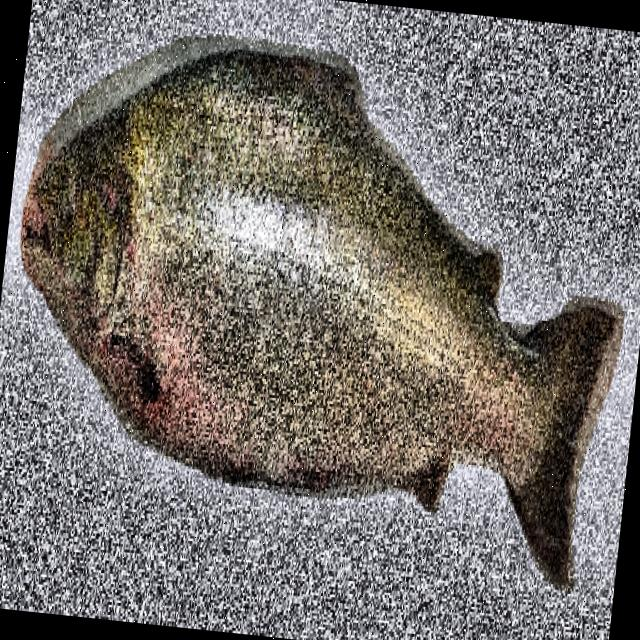mild_red: (129, 47, 550, 485)
